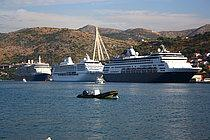Ship: (103, 45, 207, 88), (51, 54, 110, 86), (7, 57, 56, 84)
